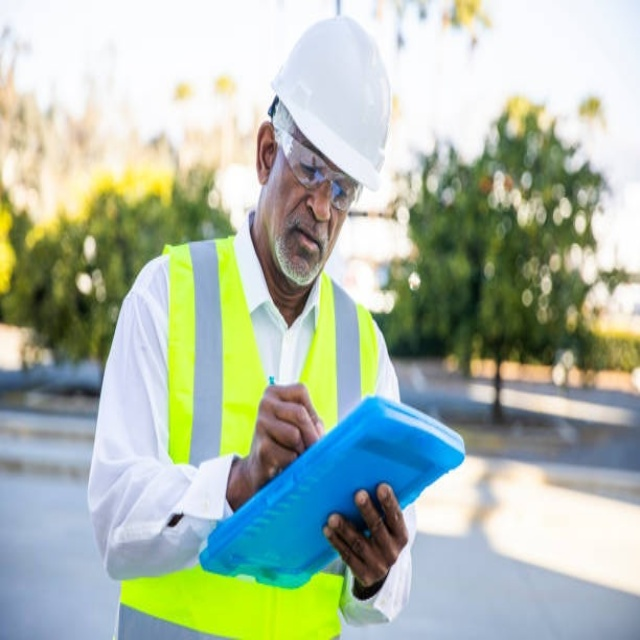Gafas: (273, 104, 365, 211)
Sin_guantes: (322, 483, 410, 593), (244, 382, 326, 498)
Sin_mascara: (278, 213, 329, 276)
